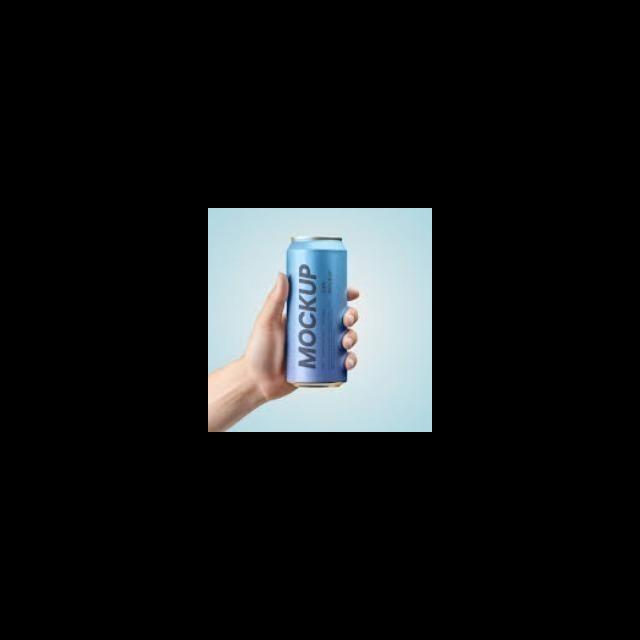metal: (280, 222, 353, 394)
